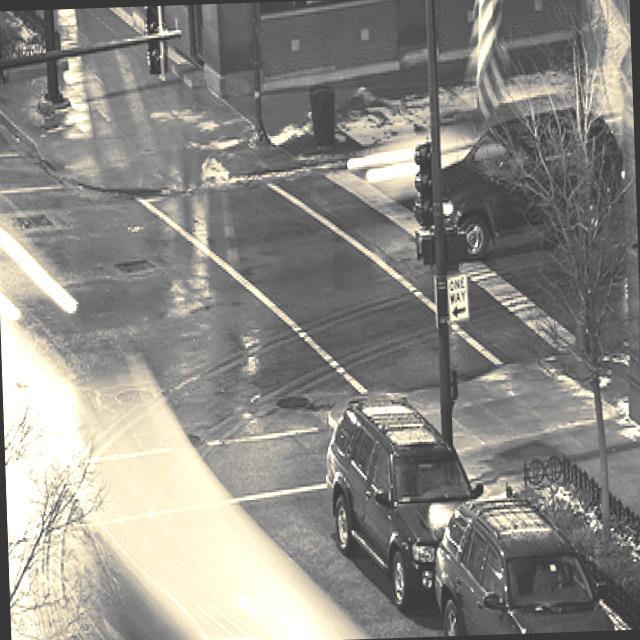Vehicle: (324, 392, 486, 620), (440, 106, 628, 264), (434, 489, 628, 636)
